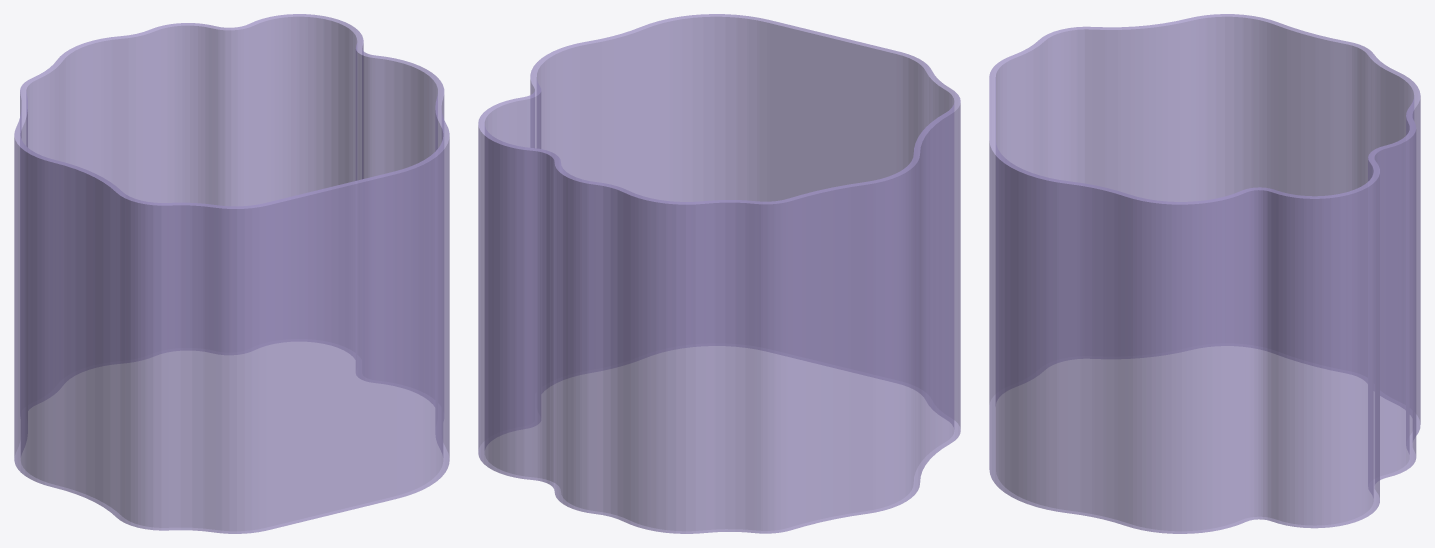
The model's file is loopcurve.dae.
The picture shows the model from 3 angles, left to right: view 1: azimuth 30°, elevation 25°; view 2: azimuth 150°, elevation 25°; view 3: azimuth 270°, elevation 25°; orthographic projection.
Visible parts, largest first — view 1: loopcurve; view 2: loopcurve; view 3: loopcurve.
Boxes of the visible parts, <box> form: loopcurve: <box>14,14,449,533</box>; loopcurve: <box>478,14,960,533</box>; loopcurve: <box>989,14,1420,533</box>.
Size of the model in its own units: 211 by 202 by 170.
